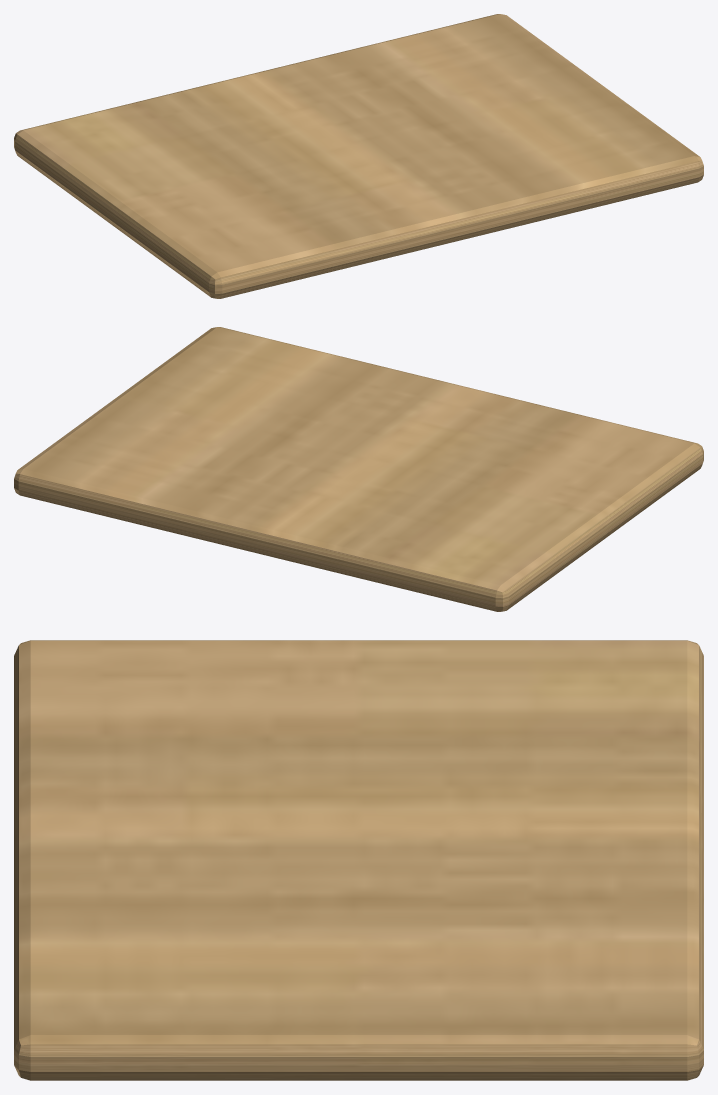
File: board.glb
The picture shows the model from 3 angles, top to bottom: view 1: azimuth 30°, elevation 25°; view 2: azimuth 150°, elevation 25°; view 3: azimuth 270°, elevation 25°; orthographic projection. The views are drawn at different scales.
Visible parts, largest first — view 1: board; view 2: board; view 3: board.
Boxes of the visible parts, x1=… form: board: x1=14, y1=14, x2=703, y2=298; board: x1=14, y1=327, x2=703, y2=611; board: x1=14, y1=640, x2=703, y2=1080.
Bounding box in the file's own units: 0.35 × 0.018 × 0.25.
1 material, 1 textured.
